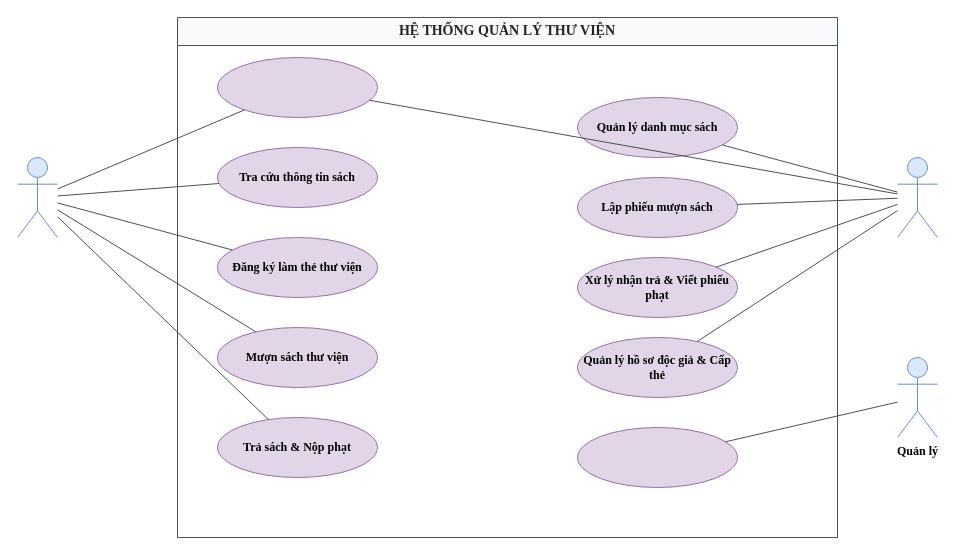
The diagram is 956 pixels wide and 555 high, and some of its shapes have lost their labels. Each missing label, with the centre of its shape:
Báo cáo thống kê mượn trả: (x=657, y=457)
Thủ thư: (x=917, y=197)
Đăng nhập hệ thống: (x=297, y=87)
Độc giả: (x=37, y=197)
